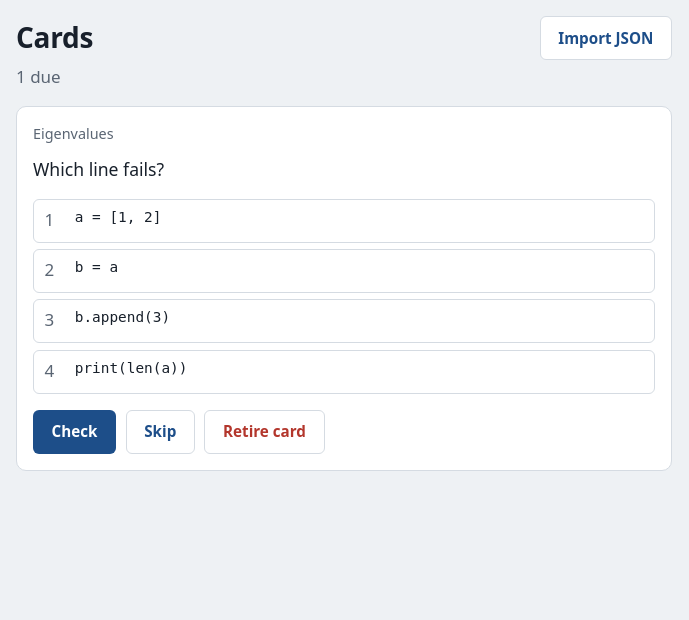
Test case: Cards screen › spot_bug: sends lineId in `given`
expect the text "Which line fails?" is shown: met, box left=33, top=157, right=164, bottom=181
Click the button "3 b.append(3)". click: point(122, 317)
box: left=33, top=299, right=655, bottom=343
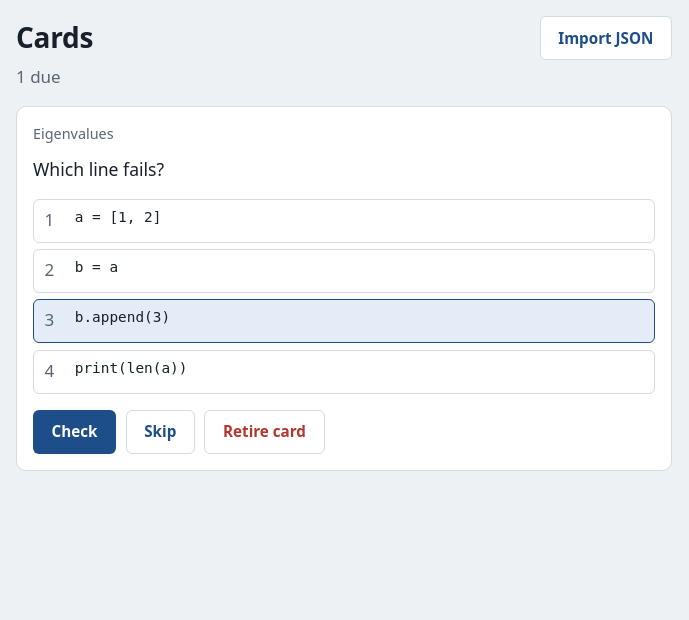
Click the button "Check". click: point(74, 432)
box: left=33, top=410, right=116, bottom=454
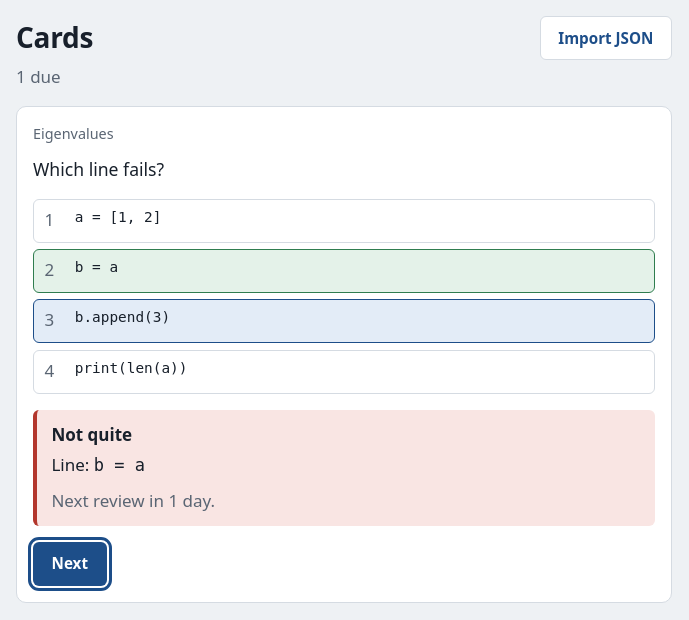
expect the text "Not quite" is shown: met, box left=51, top=423, right=132, bottom=446
